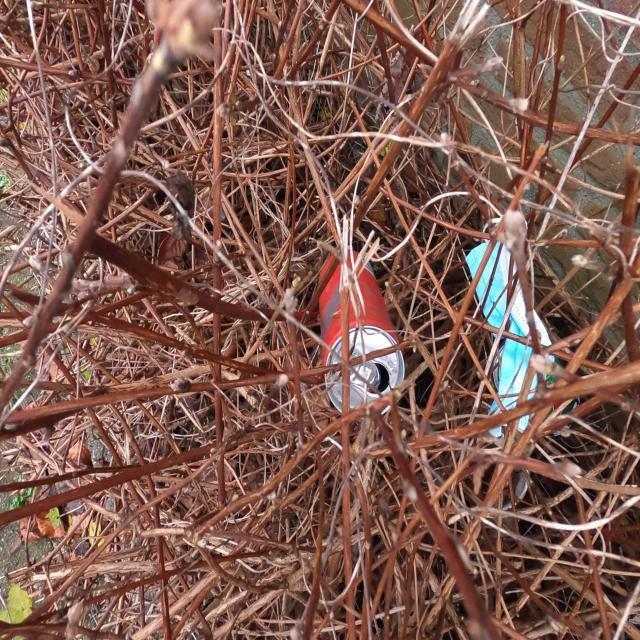Mask: (462, 212, 562, 441)
